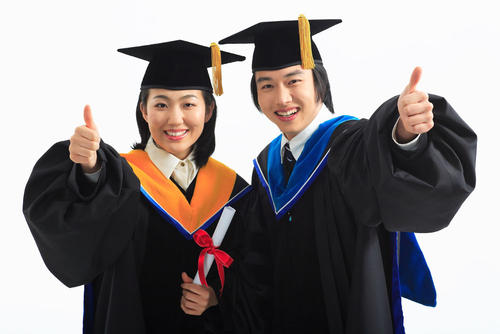no_mask: (114, 37, 243, 157), (214, 13, 343, 133)
